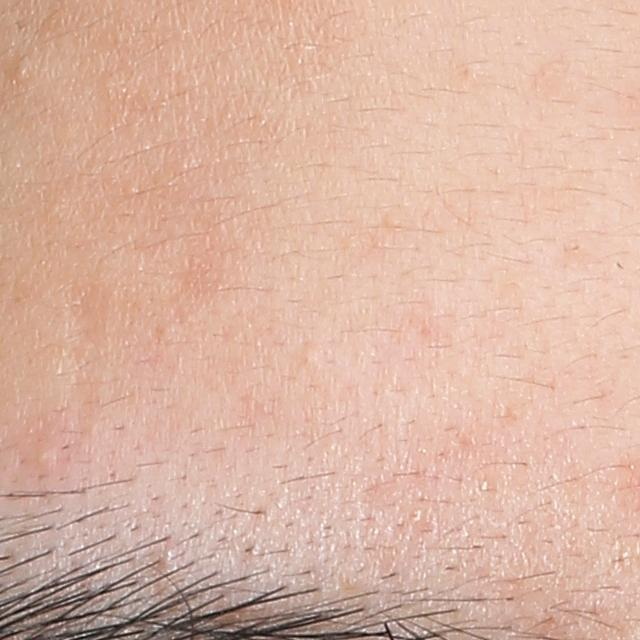comedo: (16, 59, 34, 82)
